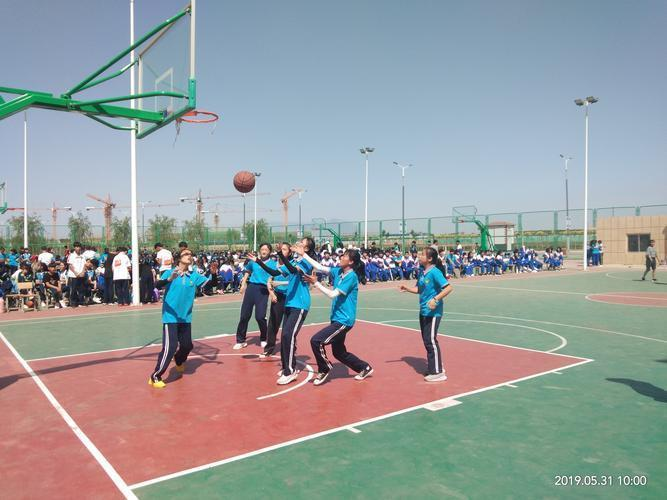ball: (233, 170, 256, 192)
human: (302, 248, 373, 386), (147, 248, 211, 389), (276, 236, 316, 388), (235, 242, 272, 352)
rim: (173, 110, 219, 148)
